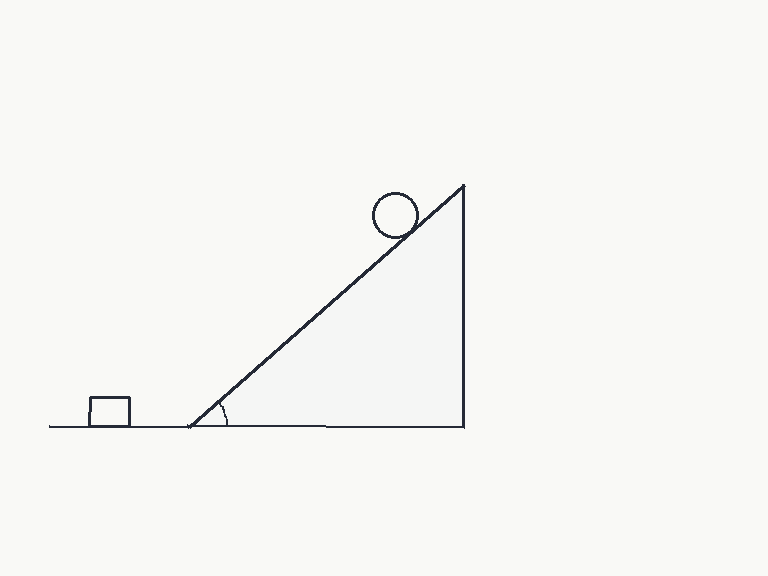ball: (370, 190, 420, 240)
block: (87, 395, 131, 428)
ramp: (185, 183, 466, 428)
